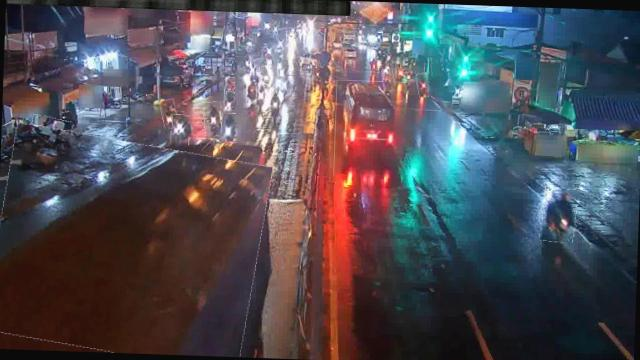Bike: (540, 187, 578, 244), (29, 115, 72, 148), (204, 102, 222, 136), (171, 115, 190, 147), (160, 99, 178, 130), (416, 74, 429, 98), (222, 114, 236, 136), (382, 69, 395, 92), (246, 80, 258, 104), (222, 92, 235, 112), (270, 94, 280, 116), (225, 78, 235, 100), (256, 87, 266, 109), (260, 66, 272, 84)
Bus: (334, 80, 406, 178)
Truck: (0, 130, 267, 357)
